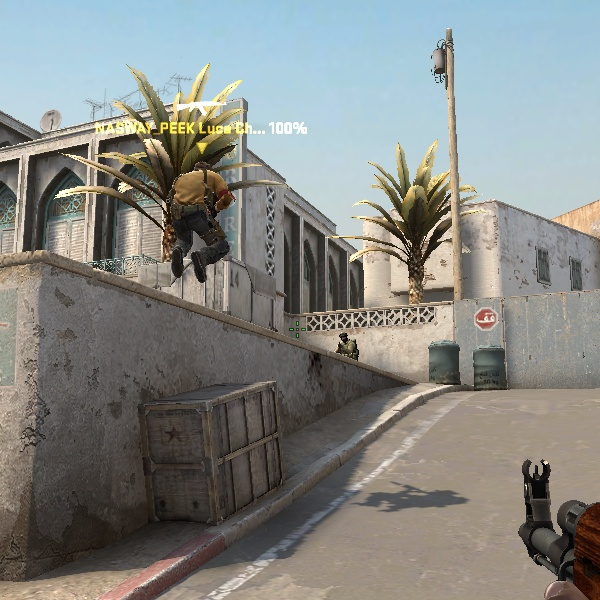ct_body: (336, 332, 366, 358)
ct_head: (339, 332, 349, 342)
t_body: (169, 160, 231, 281)
t_head: (193, 160, 211, 172)
